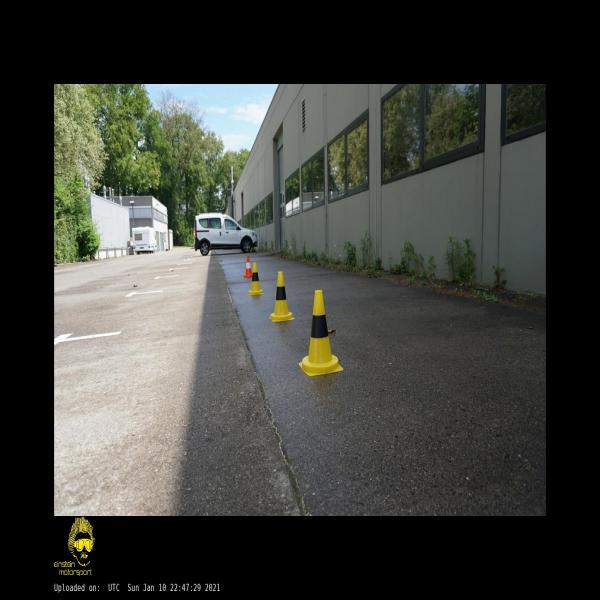orange_cone: (243, 256, 253, 277)
yellow_cone: (298, 290, 343, 376), (269, 271, 294, 321), (248, 262, 264, 294)
